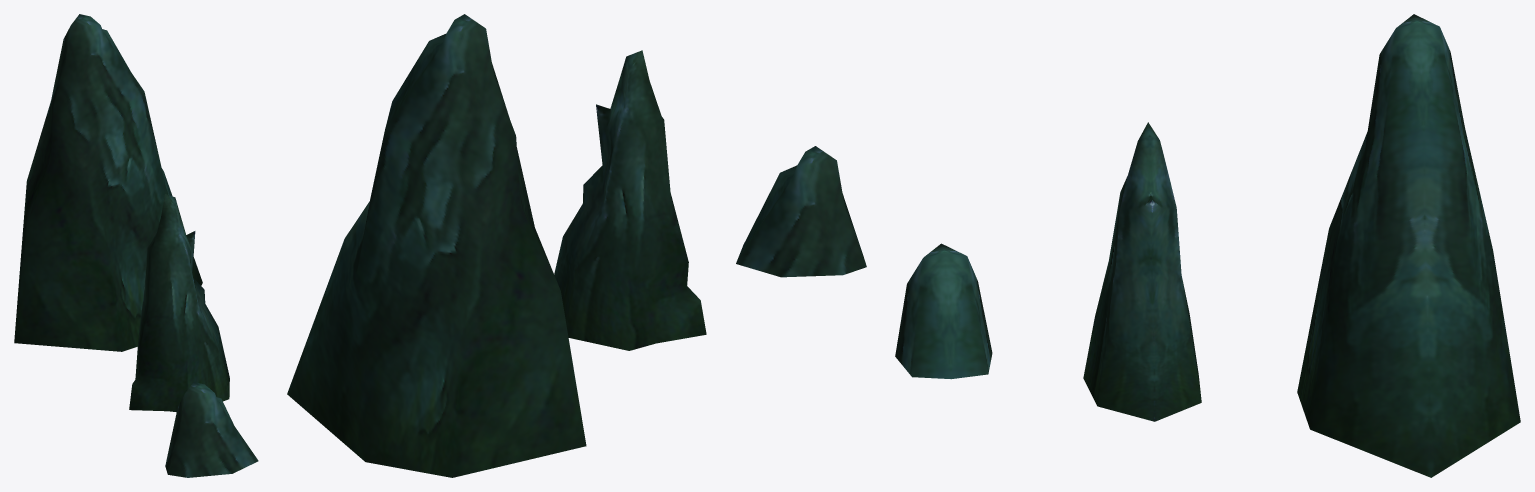
File: Yland2_st_08 Yland2.FBX
3 views of the same model, side by side, from view 1: azimuth 30°, elevation 25°; view 2: azimuth 150°, elevation 25°; view 3: azimuth 270°, elevation 25° (orthographic). The views are drawn at different scales.
Visible parts, largest first — view 1: Yland2_st_08 Yland2; view 2: Yland2_st_08 Yland2; view 3: Yland2_st_08 Yland2.
Boxes of the visible parts, bbox=[...] form: Yland2_st_08 Yland2: bbox=[14, 14, 258, 477]; Yland2_st_08 Yland2: bbox=[287, 14, 866, 477]; Yland2_st_08 Yland2: bbox=[895, 14, 1520, 477].
Bounding box in the file's own units: 3.3 × 4.12 × 6.11.
